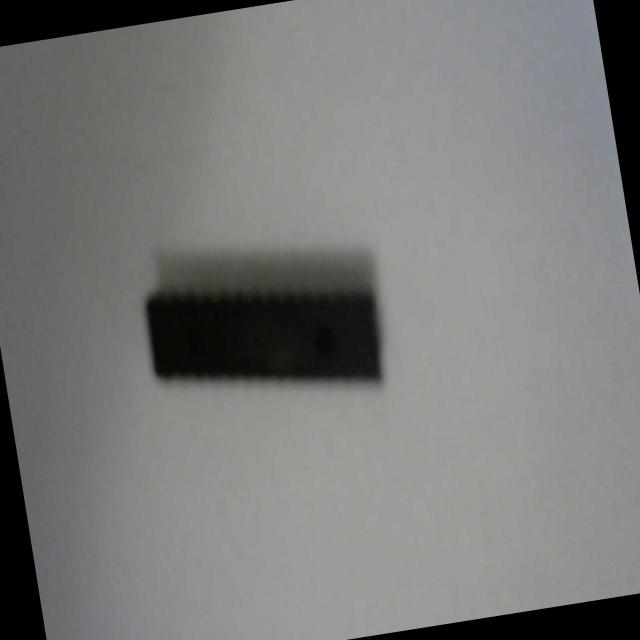atmega: (132, 217, 396, 423)
